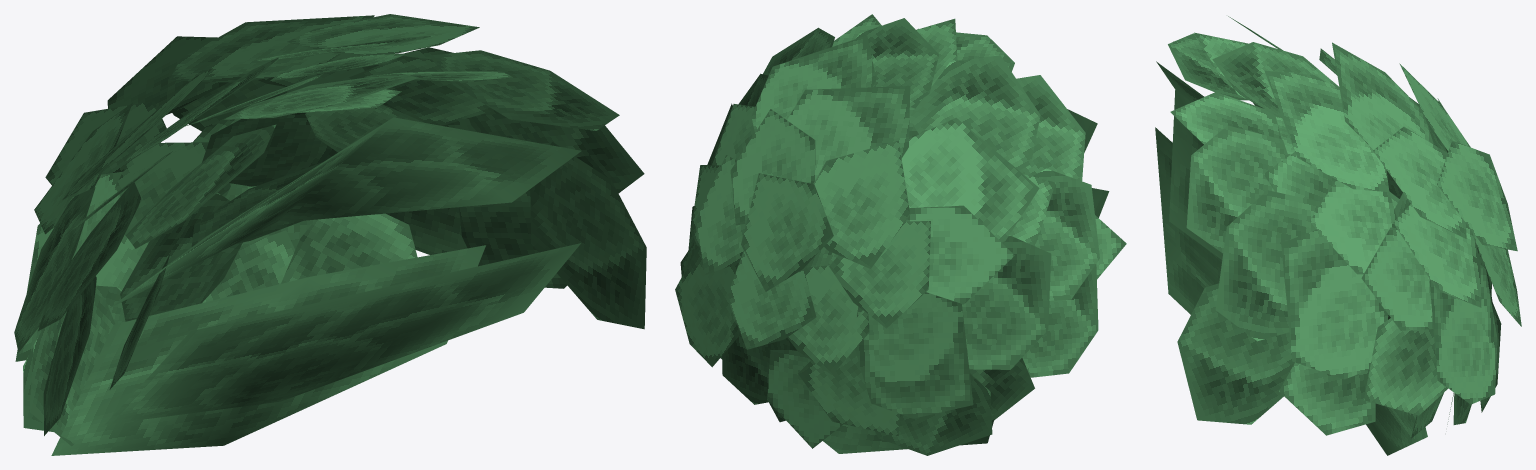
Rendered from bush-hydrangea.glb.
The picture shows the model from 3 angles, left to right: view 1: azimuth 30°, elevation 25°; view 2: azimuth 150°, elevation 25°; view 3: azimuth 270°, elevation 25°; orthographic projection. The views are drawn at different scales.
Parts seen in each view (by area): view 1: PltBushHydrangea__PltBushHydrangea4_node1; view 2: PltBushHydrangea__PltBushHydrangea4_node1; view 3: PltBushHydrangea__PltBushHydrangea4_node1.
Boxes of the visible parts, box(x1,y1,x2,y2) form: PltBushHydrangea__PltBushHydrangea4_node1: box(14, 14, 646, 455); PltBushHydrangea__PltBushHydrangea4_node1: box(675, 14, 1126, 455); PltBushHydrangea__PltBushHydrangea4_node1: box(1155, 16, 1521, 455).
Bounding box in the file's own units: 1.11 × 0.9475 × 0.7897.
Materials: 1 (1 with a texture image).
